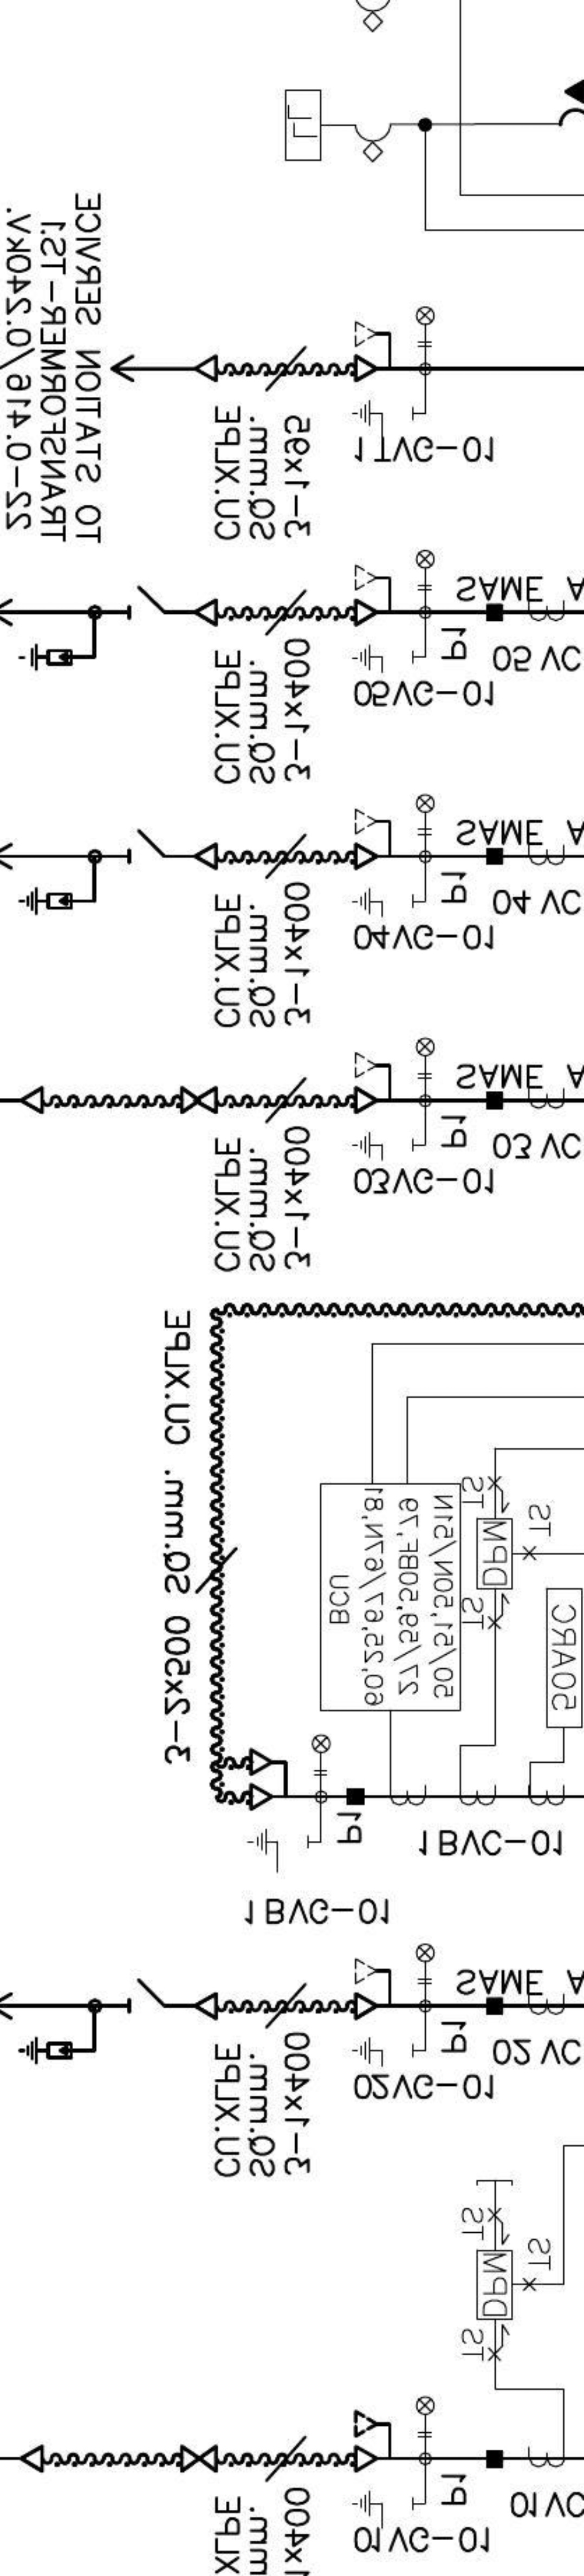22_gs: (248, 1827, 312, 1874), (351, 2489, 415, 2530), (353, 401, 417, 439), (351, 2035, 415, 2070), (353, 1130, 415, 1163), (353, 887, 417, 918), (353, 644, 417, 675)
22_ll: (415, 1942, 436, 1986), (415, 549, 436, 593), (415, 304, 436, 348), (415, 2395, 436, 2438), (310, 1733, 331, 1776), (415, 1037, 436, 1079), (415, 793, 436, 836)
DPM: (474, 1516, 513, 1592), (474, 2247, 513, 2321)
LL: (282, 87, 323, 163)
terminator_double: (248, 1746, 289, 1812)
terminator_single: (194, 352, 220, 384), (194, 596, 220, 629), (194, 1989, 220, 2022), (194, 841, 220, 872), (20, 1084, 46, 1115), (20, 2443, 46, 2474)
terminator_splicing_kits: (179, 2445, 218, 2474), (180, 1086, 218, 1115)
terminator_w_future: (353, 2408, 394, 2474), (353, 1955, 394, 2021), (353, 1050, 394, 1115), (353, 805, 394, 871), (353, 563, 394, 629), (353, 319, 394, 384)
